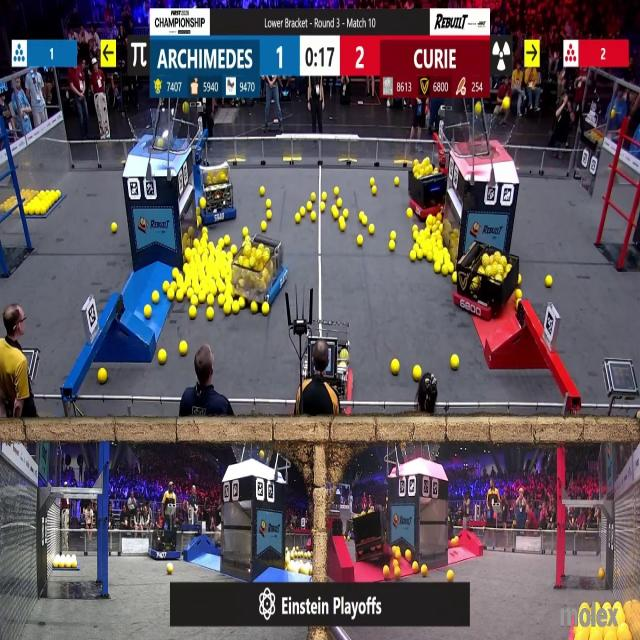ball_airborne: (502, 97, 509, 110), (474, 104, 480, 115), (182, 103, 188, 113)
ball_ground: (99, 367, 107, 382), (160, 350, 168, 364), (414, 365, 422, 379), (391, 359, 398, 374), (452, 354, 459, 369), (180, 342, 187, 356), (144, 305, 151, 319), (447, 569, 455, 581), (544, 276, 552, 287), (176, 290, 184, 301), (199, 292, 207, 303), (263, 304, 270, 316), (251, 303, 258, 315), (207, 308, 214, 320), (383, 566, 390, 578), (223, 304, 230, 316), (233, 303, 240, 315), (443, 265, 450, 277), (168, 290, 176, 300), (207, 294, 214, 305), (421, 565, 428, 576), (356, 236, 363, 247), (406, 551, 413, 562), (394, 549, 401, 560), (152, 290, 158, 302), (331, 207, 337, 219), (218, 282, 224, 294), (218, 294, 225, 304), (223, 237, 230, 247), (183, 248, 190, 258), (517, 288, 523, 299), (189, 308, 195, 319), (361, 214, 367, 225), (434, 264, 440, 275), (172, 269, 178, 280), (259, 221, 266, 230), (190, 295, 197, 304), (168, 564, 174, 574), (394, 566, 400, 576), (243, 226, 249, 236), (390, 232, 396, 242), (370, 185, 376, 195), (165, 281, 171, 291), (452, 274, 458, 284), (311, 212, 317, 222), (411, 250, 417, 260), (598, 568, 604, 578), (413, 562, 419, 572), (413, 232, 419, 242), (239, 300, 245, 310), (186, 288, 192, 298), (427, 215, 433, 225), (232, 245, 238, 255), (368, 223, 373, 234), (341, 219, 346, 230), (308, 202, 313, 213), (428, 251, 433, 262), (417, 250, 422, 261), (343, 210, 349, 219), (294, 214, 300, 223), (449, 265, 455, 274), (195, 216, 201, 225), (335, 186, 341, 195), (218, 240, 224, 249), (111, 222, 116, 232), (268, 210, 273, 220), (387, 239, 392, 249), (320, 203, 325, 213), (25, 205, 30, 215), (201, 200, 206, 210), (516, 276, 521, 286), (267, 201, 273, 209), (368, 177, 374, 185), (452, 538, 458, 546), (192, 240, 198, 248), (408, 209, 413, 218), (394, 177, 399, 186), (172, 280, 177, 289), (299, 208, 305, 215), (413, 223, 419, 230), (311, 192, 316, 200), (338, 200, 343, 208), (183, 264, 188, 272), (260, 186, 264, 195), (393, 560, 398, 567), (209, 242, 214, 249), (437, 215, 442, 222), (195, 208, 200, 215), (322, 191, 326, 199), (203, 226, 208, 232)
goal: (462, 116, 518, 158), (128, 112, 186, 150)
robot_blue: (232, 238, 289, 306), (202, 166, 237, 223), (148, 529, 184, 559)
robot_red: (456, 249, 518, 320), (408, 158, 447, 216), (347, 512, 390, 564)
